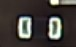COMP: (11, 10, 69, 44)
GAP: (46, 1, 62, 29)
